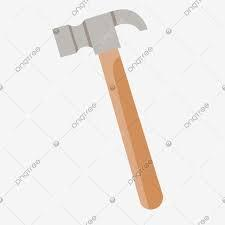hammer: (50, 6, 163, 209)
